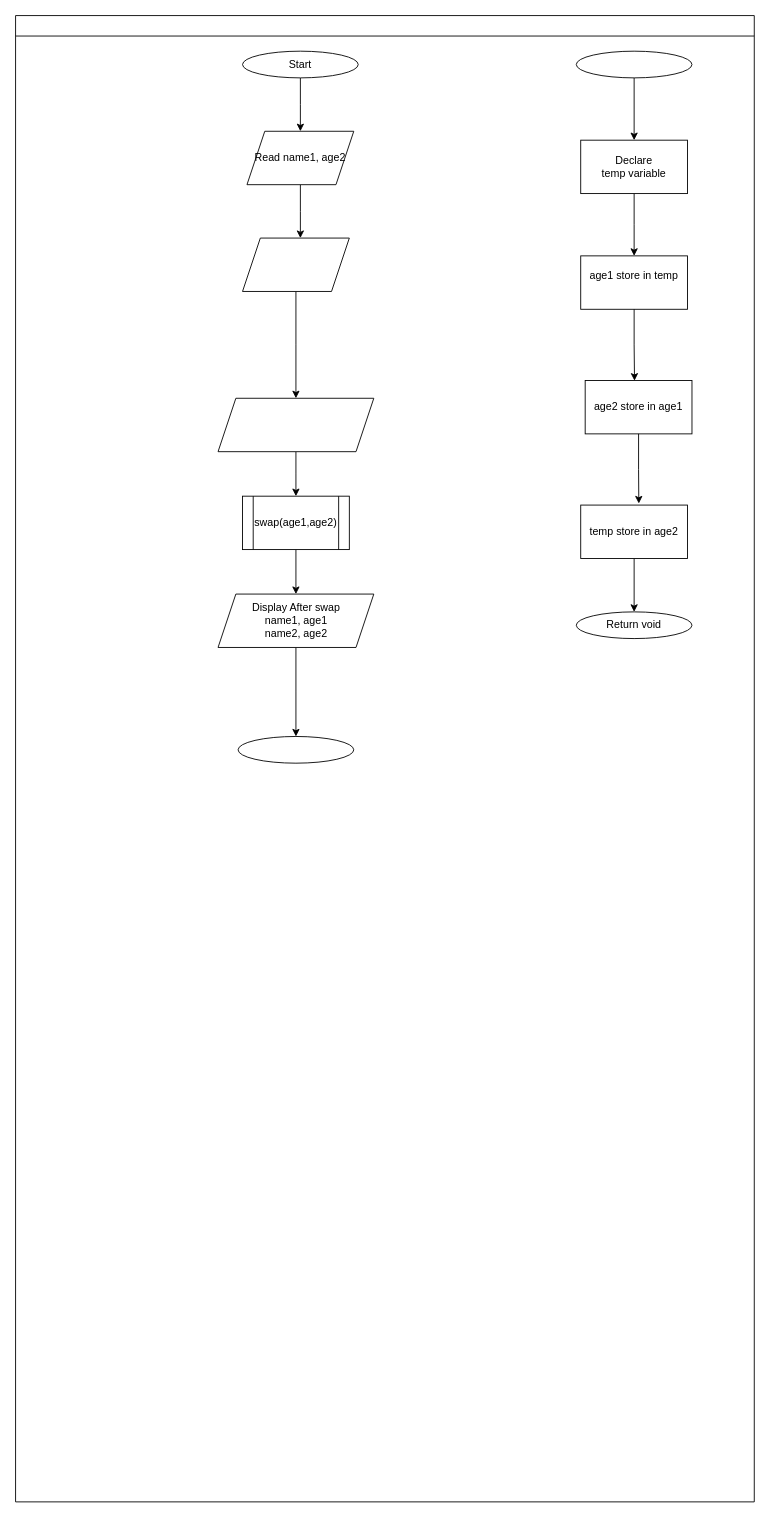
Some shapes in this 770 by 1517 pixel diagram are drawn without their labels. The centre of each missing label's shape, as x and y in pixels:
Display "Before swap": [295,424]
End: [295,749]
Read name2, age2: [295,264]
swap(): [633,64]
